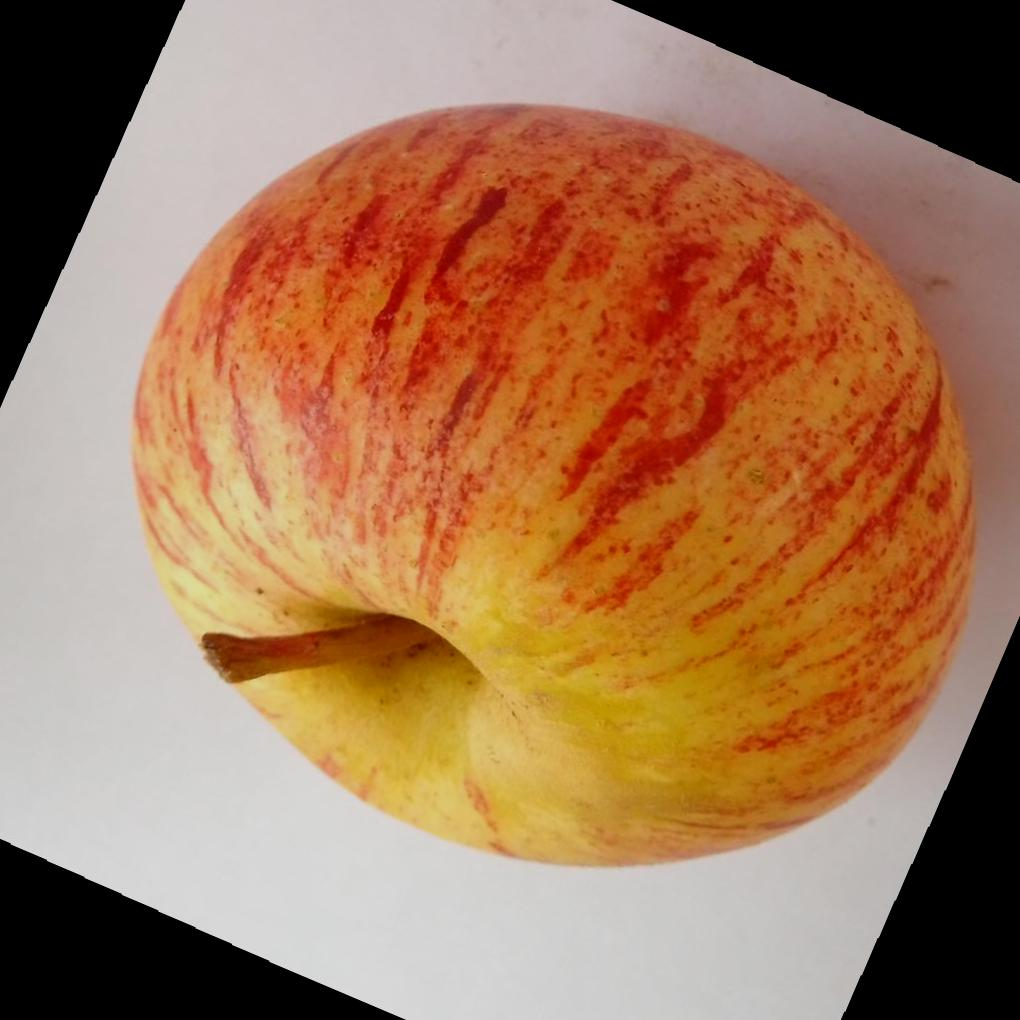FreshGuava: (129, 101, 980, 871)
